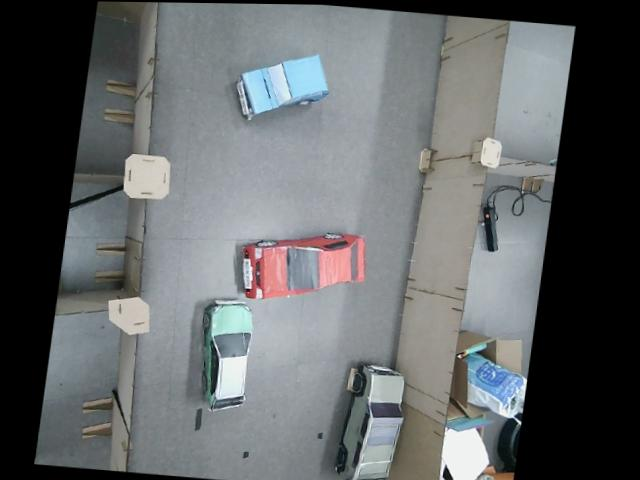car: (232, 222, 371, 309), (329, 359, 411, 480), (187, 296, 258, 416), (229, 47, 334, 127)
